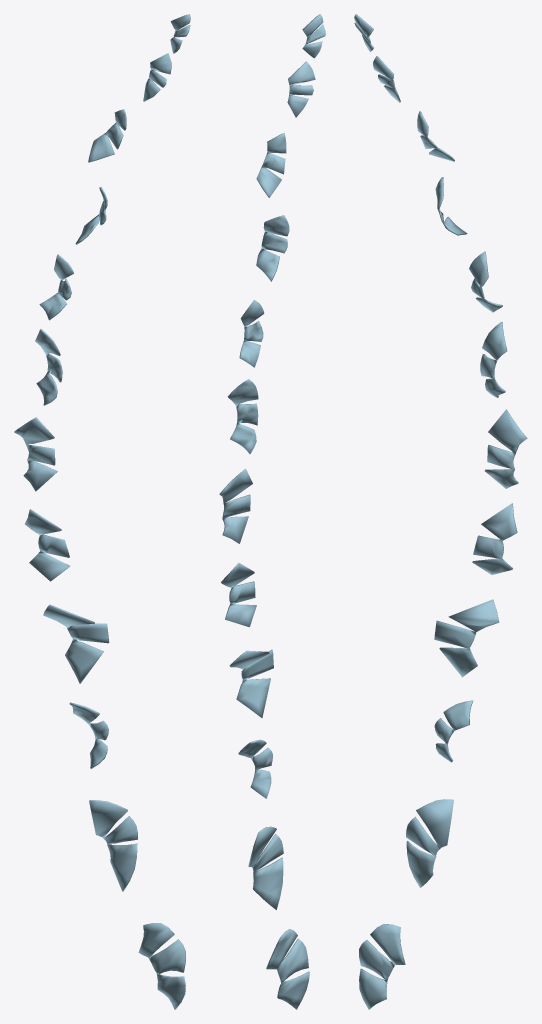
Rendered from articulacoes-radiate-ligament-of-head-of-rib-l.glb.
3 views of the same model, side by side, from view 1: azimuth 90°, elevation 25°; view 2: azimuth 150°, elevation 25°; view 3: azimuth 270°, elevation 25° (orthographic).
Parts seen in each view (by area): view 1: Radiate ligament of head of rib.l; view 2: Radiate ligament of head of rib.l; view 3: Radiate ligament of head of rib.l.
Boxes of the visible parts, box(x1,y1,x2,y2) form: Radiate ligament of head of rib.l: box(14, 14, 190, 1009); Radiate ligament of head of rib.l: box(219, 14, 325, 1009); Radiate ligament of head of rib.l: box(354, 14, 527, 1009).
Size of the model in its own units: 0.0126 by 0.3049 by 0.0486.
